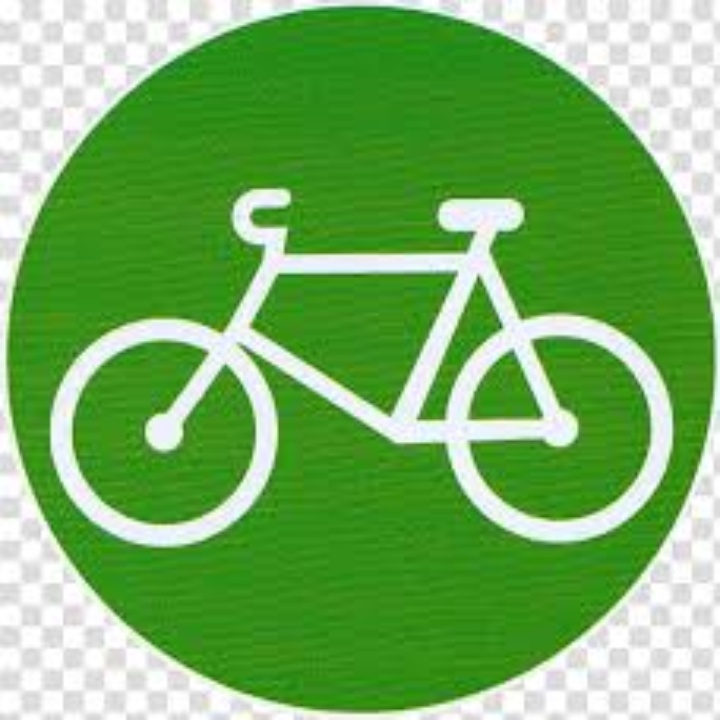bicycle: (36, 178, 676, 551)
